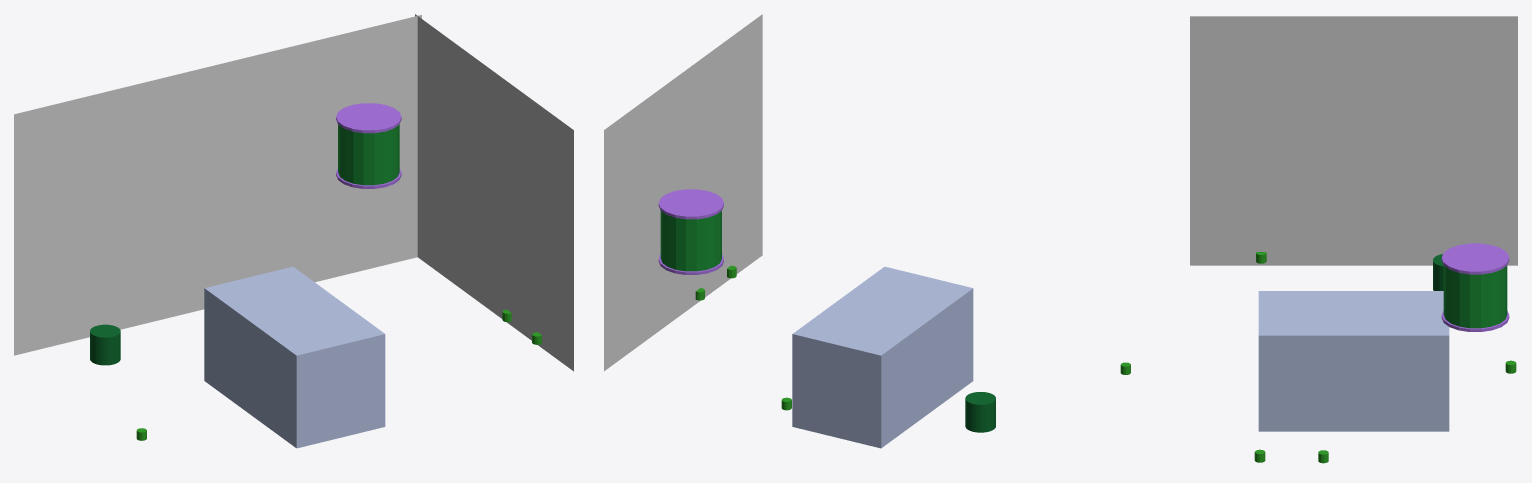
The model's file is room_1.glb.
3 renders of one model, left to right at view 1: azimuth 30°, elevation 25°; view 2: azimuth 150°, elevation 25°; view 3: azimuth 270°, elevation 25°, orthographic. The views are drawn at different scales.
Visible parts, largest first — view 1: back wall, right, Cube.001, container, top, mushroom pot; view 2: right, Cube.001, container, top, mushroom pot; view 3: left, Cube.001, container, top, mushroom pot, bottom.
Boxes of the visible parts, box(x1,y1,x2,y2) form: back wall: box(14, 15, 421, 355); right: box(415, 14, 573, 371); Cube.001: box(204, 266, 385, 448); container: box(338, 124, 399, 185); top: box(336, 103, 401, 133); mushroom pot: box(90, 324, 120, 365); right: box(604, 14, 762, 371); Cube.001: box(792, 266, 973, 448); container: box(660, 211, 721, 271); top: box(658, 189, 723, 219); mushroom pot: box(965, 392, 995, 432); left: box(1190, 16, 1517, 265); Cube.001: box(1258, 291, 1449, 431); container: box(1443, 265, 1507, 328); top: box(1441, 243, 1509, 274); mushroom pot: box(1433, 254, 1443, 290); bottom: box(1441, 311, 1509, 331).
Size of what is drawn, in the model's own units: 4.6 by 3.05 by 3.1.
